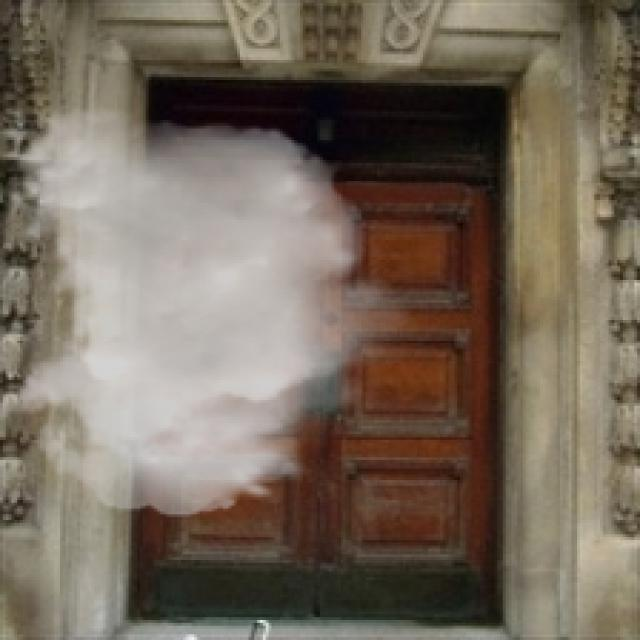Smoke: (0, 105, 420, 518)
